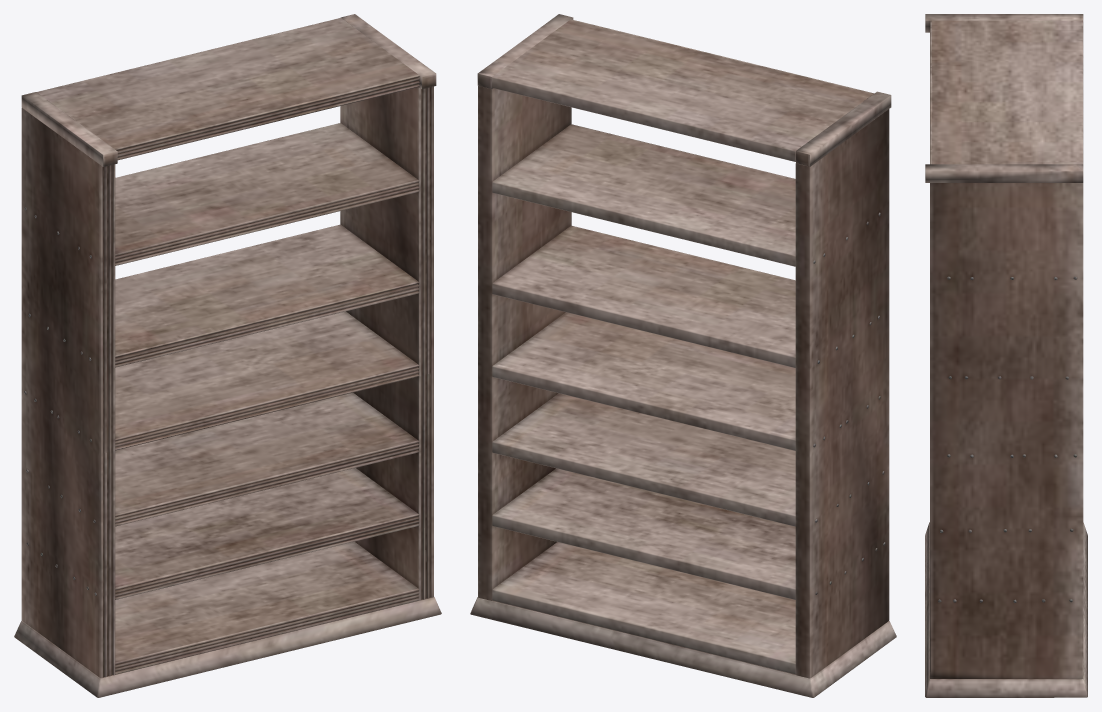
Rendered from wooden_bookshelf_worn.glb.
The picture shows the model from 3 angles, left to right: view 1: azimuth 30°, elevation 25°; view 2: azimuth 150°, elevation 25°; view 3: azimuth 270°, elevation 25°; orthographic projection. The views are drawn at different scales.
Parts seen in each view (by area): view 1: wooden_bookshelf_worn; view 2: wooden_bookshelf_worn; view 3: wooden_bookshelf_worn.
Part boxes in pixels (x1,y1,x2,y2): wooden_bookshelf_worn: (14,14,441,697); wooden_bookshelf_worn: (470,14,896,697); wooden_bookshelf_worn: (925,14,1087,697).
Bounding box in the file's own units: 1.37 × 2.06 × 0.5813.
1 material, 1 textured.
